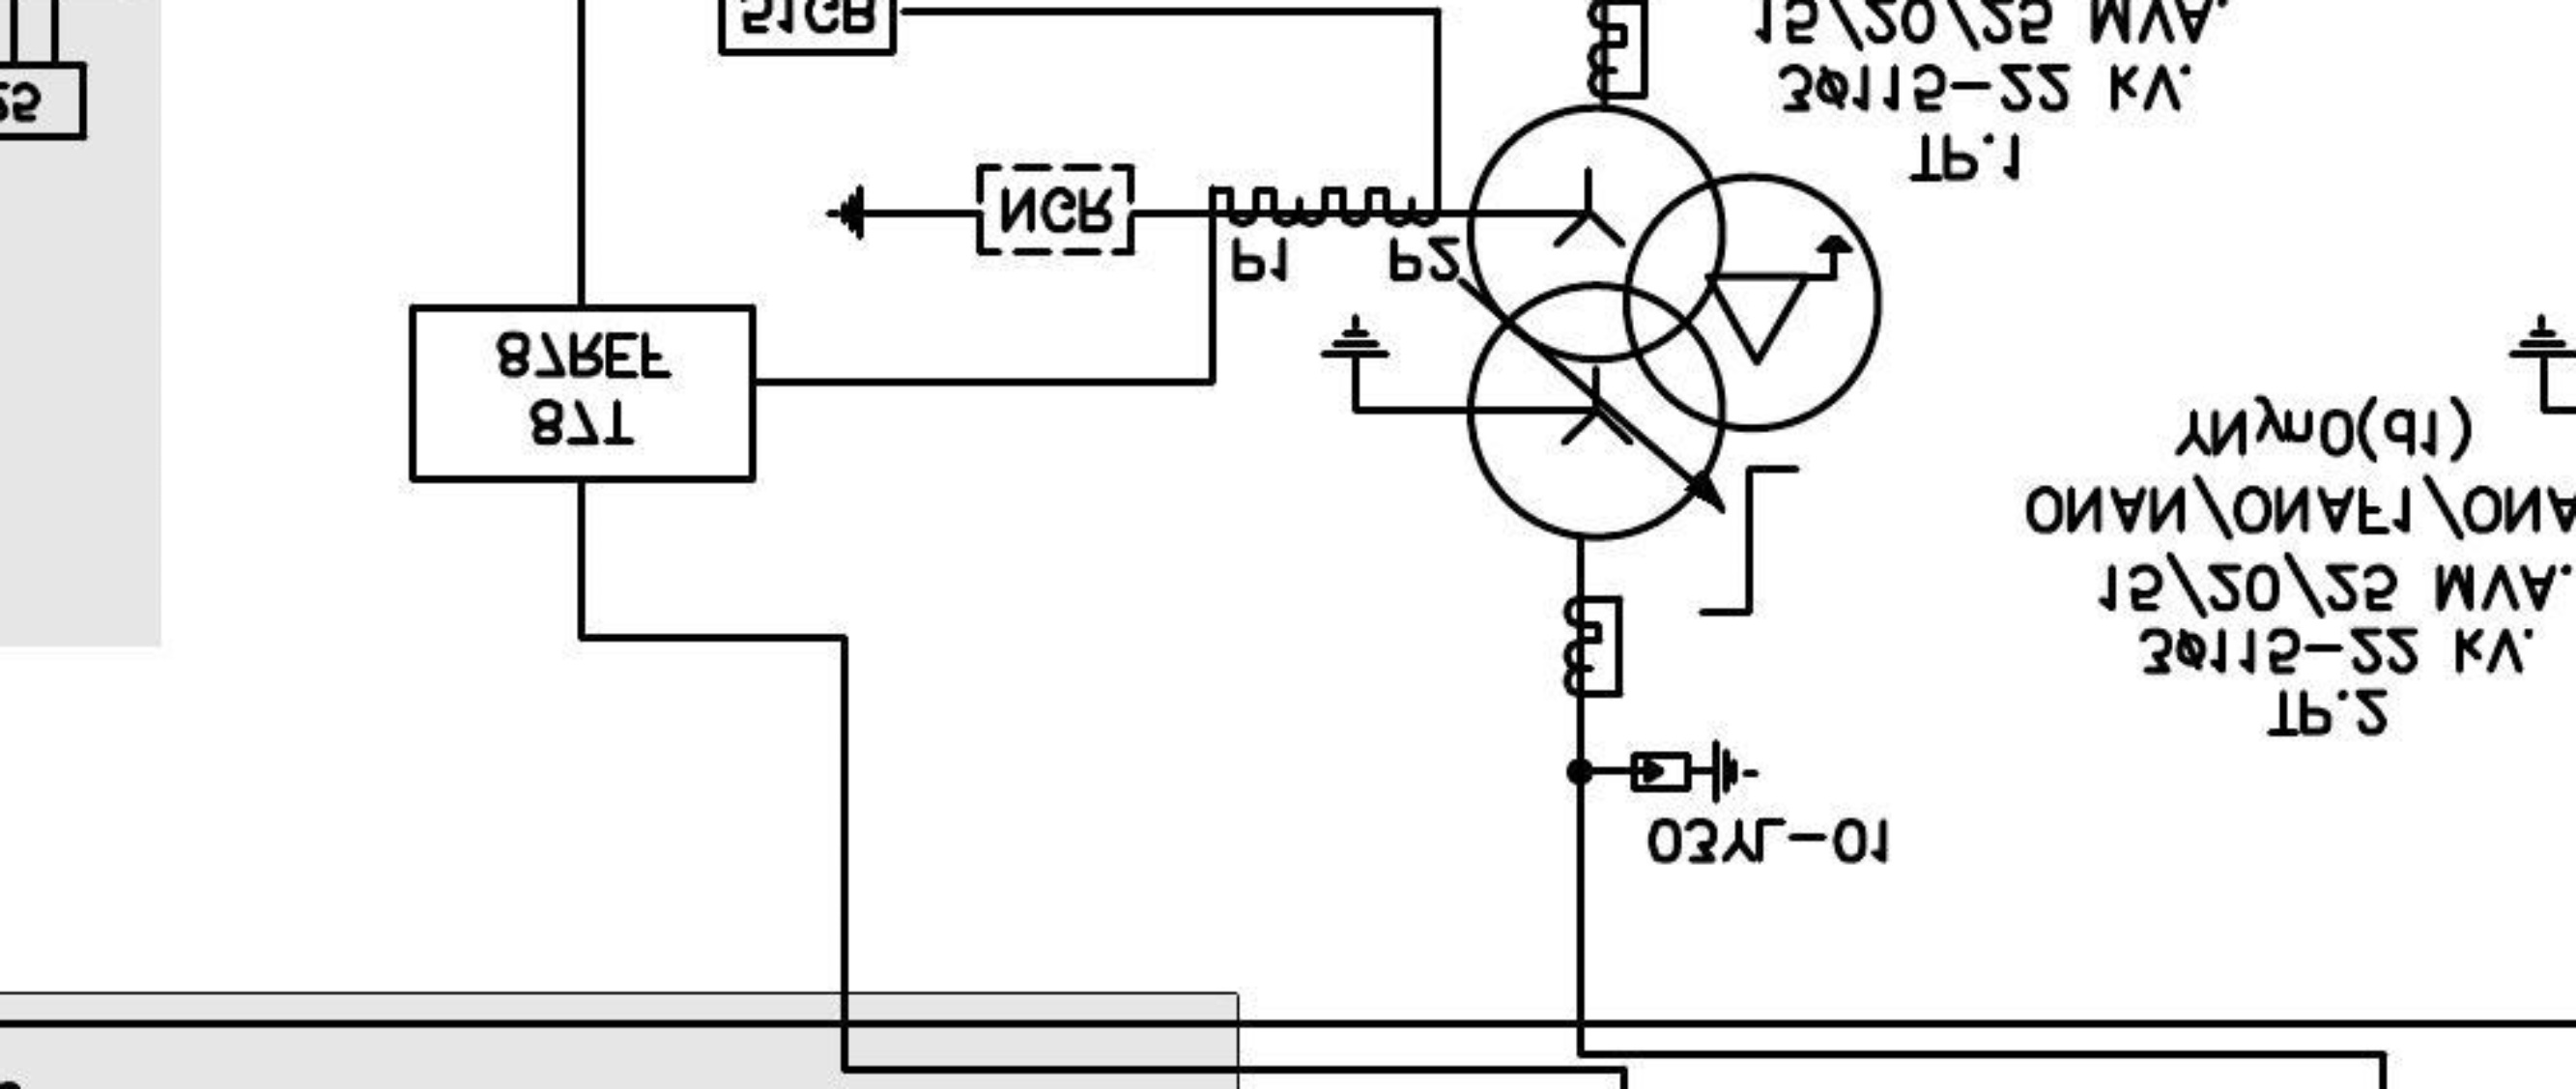11522_tx_ynyn0d1: (1465, 100, 1886, 544)
115_la: (1628, 737, 1760, 806)
NGR_future: (824, 161, 1137, 257)
